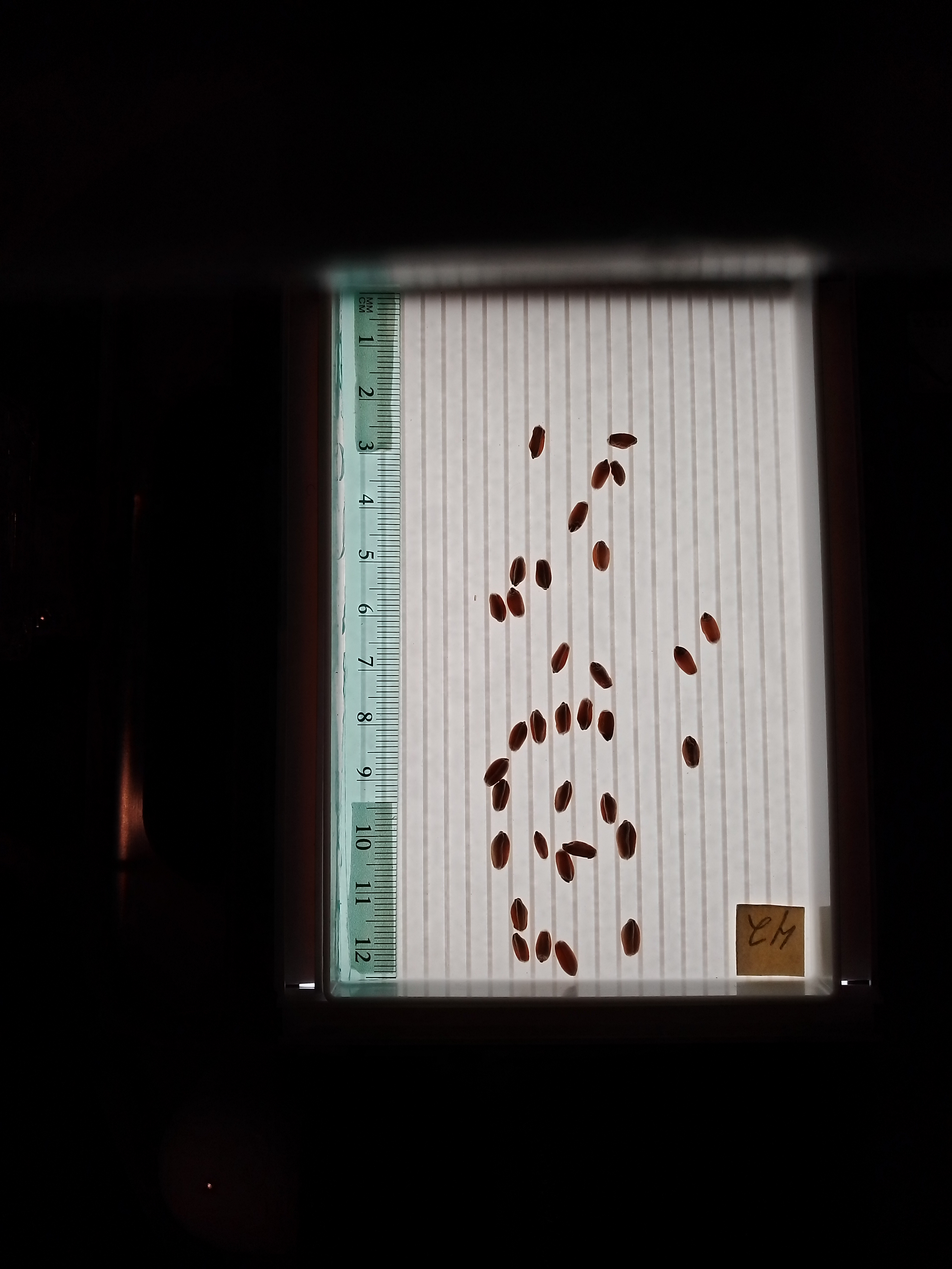seed mask: (555, 941, 578, 976), (617, 822, 637, 859), (621, 920, 641, 956), (491, 833, 510, 870), (484, 758, 508, 786), (674, 646, 697, 674), (568, 502, 588, 533), (701, 614, 721, 643), (563, 841, 596, 858), (556, 851, 574, 882), (530, 711, 547, 743), (511, 899, 528, 931), (592, 541, 610, 571), (506, 589, 525, 617), (492, 780, 509, 811), (535, 931, 552, 962), (591, 663, 612, 688), (509, 722, 527, 751), (682, 737, 699, 767), (555, 704, 572, 734), (555, 782, 572, 812), (592, 461, 610, 489), (609, 432, 637, 450), (529, 426, 545, 457), (577, 699, 593, 730), (552, 644, 569, 673), (598, 711, 615, 740), (512, 933, 529, 962), (535, 559, 551, 589), (601, 794, 617, 824), (510, 557, 526, 585), (490, 595, 506, 622), (534, 833, 549, 859), (610, 461, 625, 485)
